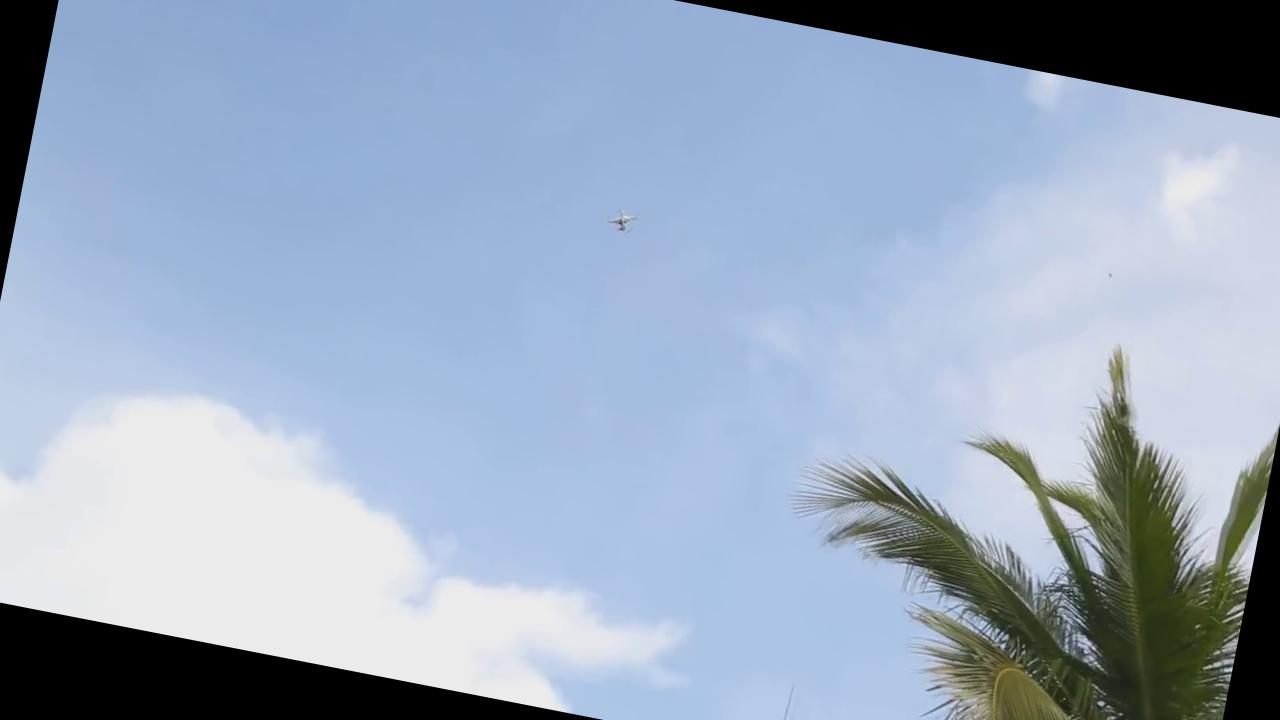drone: (604, 196, 646, 240)
